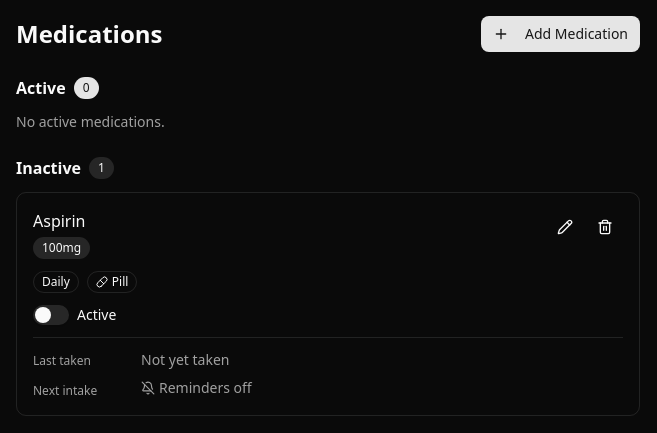
Test: MedicationsPage — schedule section (US1) › switching Inactive to Active shows the next intake date without a reload
The image size is (657, 433).
Expected: the text "Reminders off" is shown, 141,378 -> 252,398
Click the switch named "active" at (51, 315), box 33,305 -> 69,325
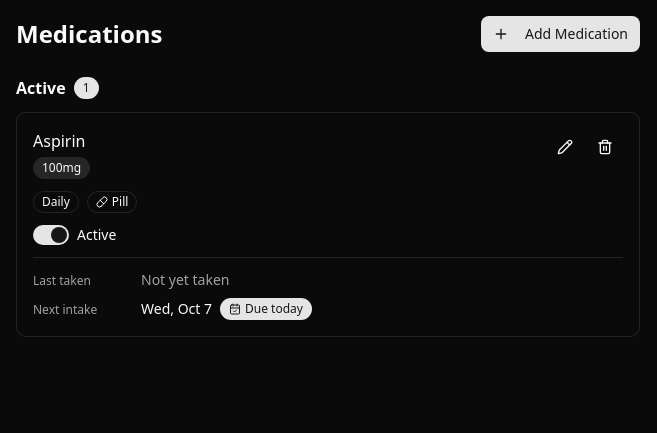
Expected: the heading "Active" is shown, 16,76 -> 66,100
Result: the text "Reminders off" is gone
Result: the text "Due today" is shown at 220,298 -> 312,320
